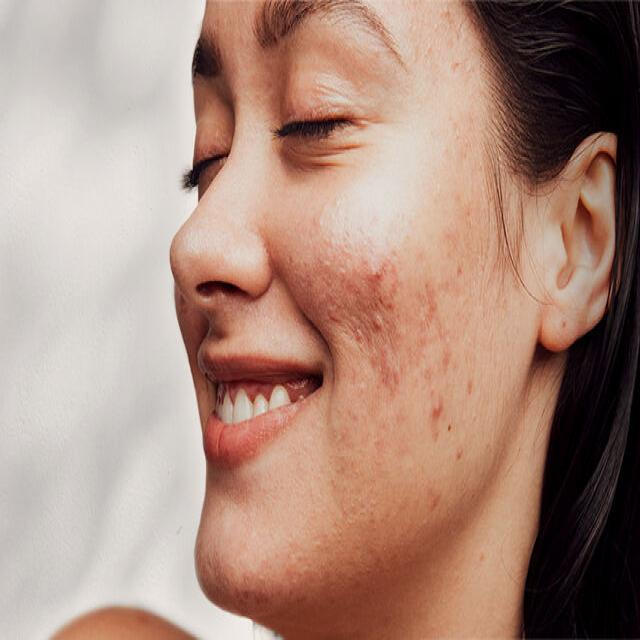Acne: (304, 11, 488, 510)
Oily-Skin: (263, 165, 384, 257)
